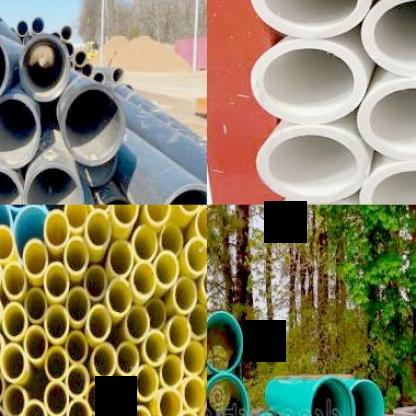pipe: (252, 39, 368, 124), (256, 126, 370, 202), (62, 84, 125, 166), (357, 78, 416, 161), (251, 0, 371, 37), (360, 0, 416, 78), (19, 34, 70, 102), (0, 95, 39, 167), (23, 163, 84, 205), (360, 161, 416, 205), (207, 311, 243, 372), (14, 204, 48, 262), (207, 372, 248, 416), (310, 376, 355, 416), (350, 380, 384, 416), (85, 209, 112, 249), (43, 210, 70, 250), (44, 262, 70, 302), (23, 239, 48, 279), (106, 278, 133, 315), (0, 343, 26, 381), (132, 224, 158, 262), (108, 239, 134, 277), (1, 302, 26, 341), (44, 304, 69, 343), (64, 236, 89, 275), (1, 261, 26, 300), (154, 251, 180, 288), (0, 166, 24, 205), (124, 306, 150, 342), (92, 343, 117, 380), (87, 304, 111, 342), (173, 276, 197, 314), (44, 380, 69, 416), (24, 326, 48, 363), (132, 261, 156, 298), (66, 287, 90, 324), (185, 236, 207, 276), (143, 330, 167, 366), (160, 354, 184, 390), (134, 364, 158, 400), (182, 376, 206, 412), (24, 288, 48, 324), (116, 341, 140, 376), (110, 377, 134, 412), (84, 265, 108, 300), (168, 316, 191, 352), (182, 341, 206, 375), (45, 346, 69, 380), (65, 364, 89, 398), (2, 385, 28, 416), (86, 381, 109, 415), (160, 222, 183, 256), (66, 330, 88, 364), (110, 205, 139, 230), (156, 387, 181, 416), (187, 304, 207, 340), (0, 29, 9, 106), (63, 205, 88, 232), (144, 299, 166, 329), (144, 204, 172, 226), (0, 224, 14, 263), (195, 205, 207, 242), (66, 399, 91, 416), (22, 399, 47, 416), (128, 405, 152, 416), (32, 15, 45, 35), (201, 264, 207, 303), (80, 62, 94, 78), (61, 24, 74, 41), (16, 20, 29, 36), (74, 50, 86, 67), (112, 67, 124, 84), (0, 369, 5, 404), (93, 72, 106, 84), (176, 410, 201, 416), (65, 41, 74, 55), (0, 327, 3, 365), (0, 404, 7, 416), (0, 292, 2, 328)
